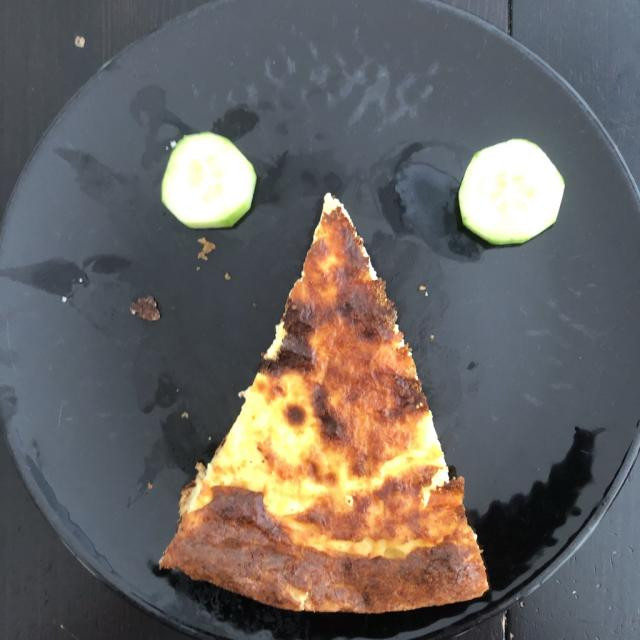zucchini: (163, 134, 564, 237)
